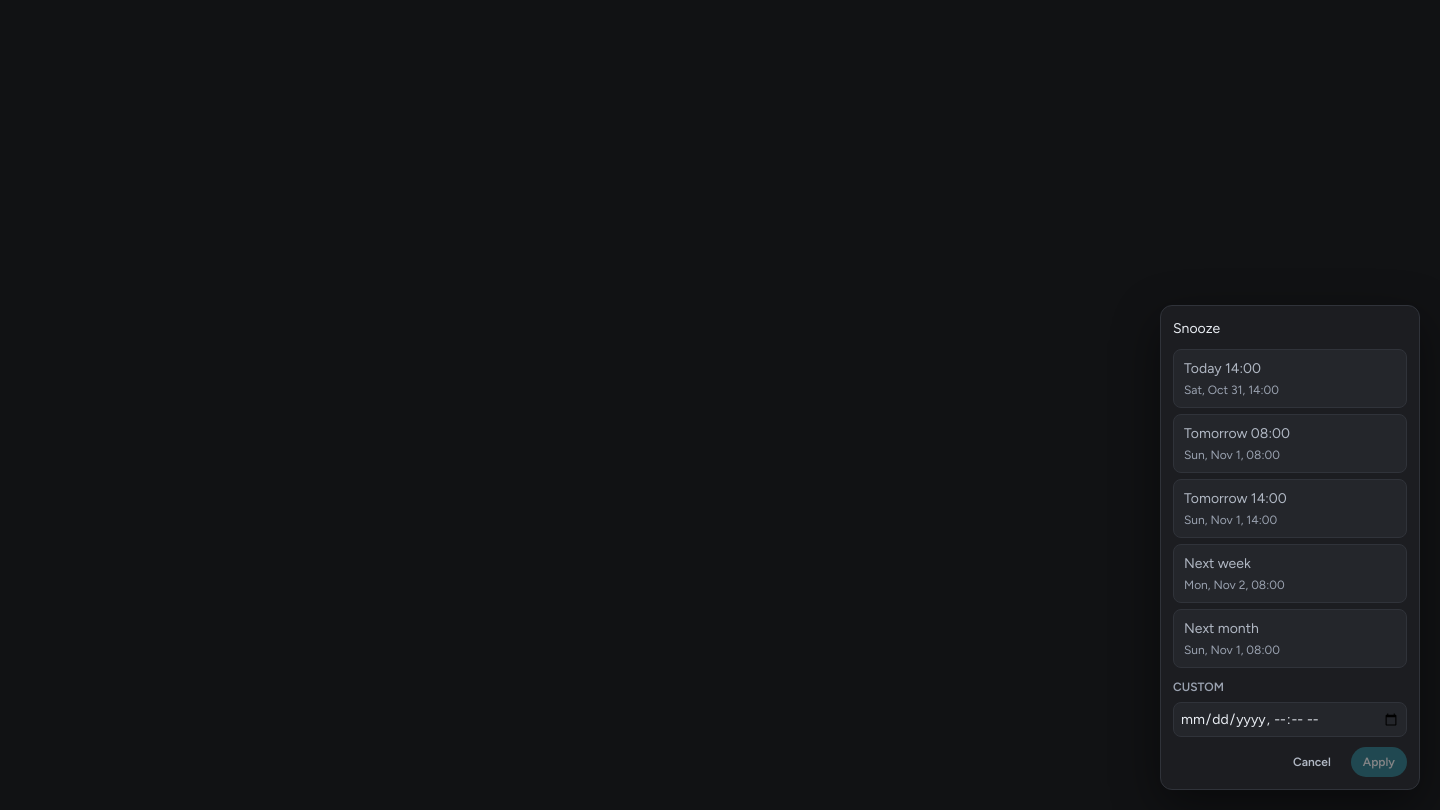
Scenario: SnoozePicker › says so when the custom time is in the past instead of ignoring Apply
The width and height of the screenshot is (1440, 810).
Expected: the button "Apply" is disabled, 1351,747 -> 1407,777
Step 1. Type "2001-01-01T10:00" into the field labelled "Custom" → (1290, 720), box 1173,702 -> 1407,737
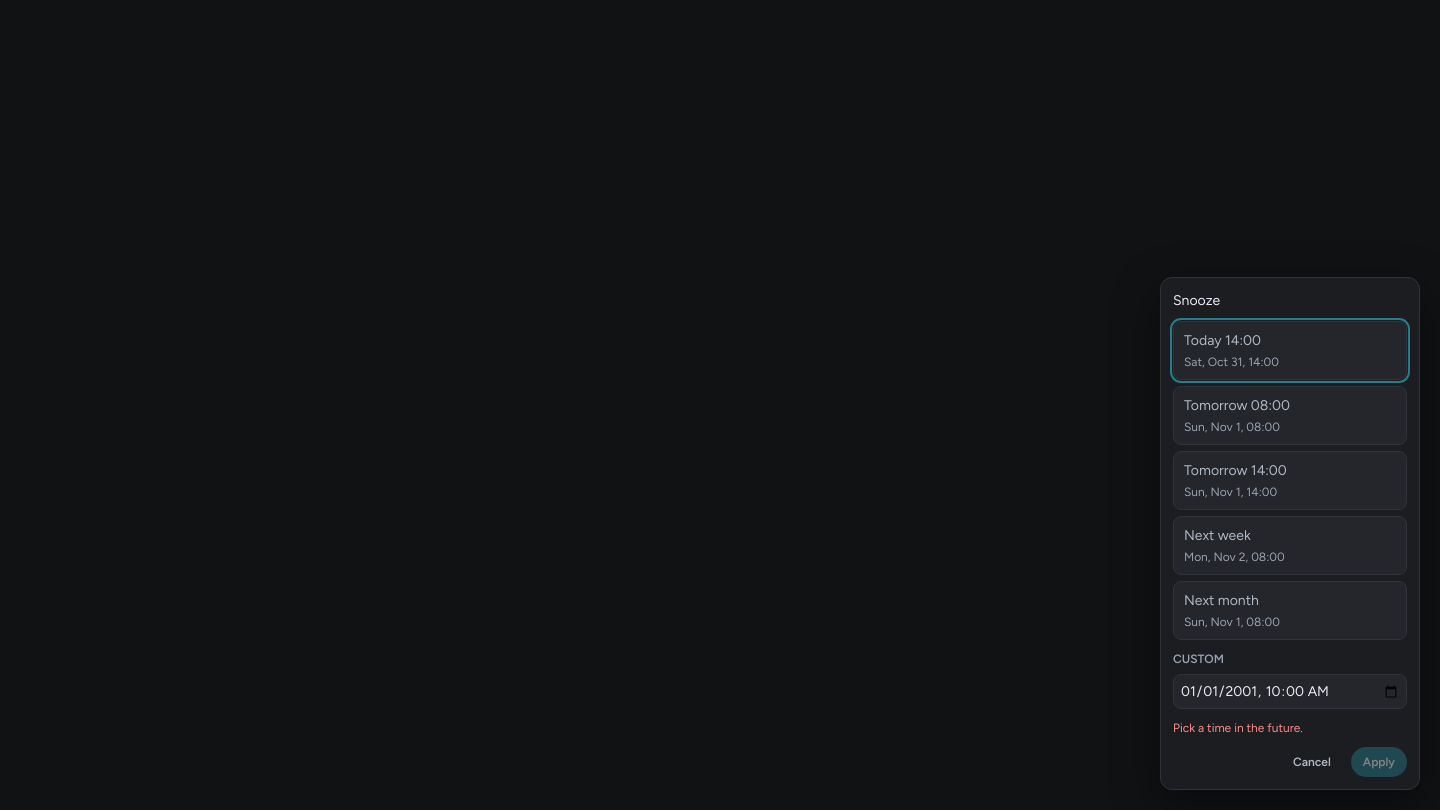
Expected: the button "Apply" is disabled, 1351,747 -> 1407,777
Expected: the message "Pick a time in the future." is shown, 1173,721 -> 1303,735
